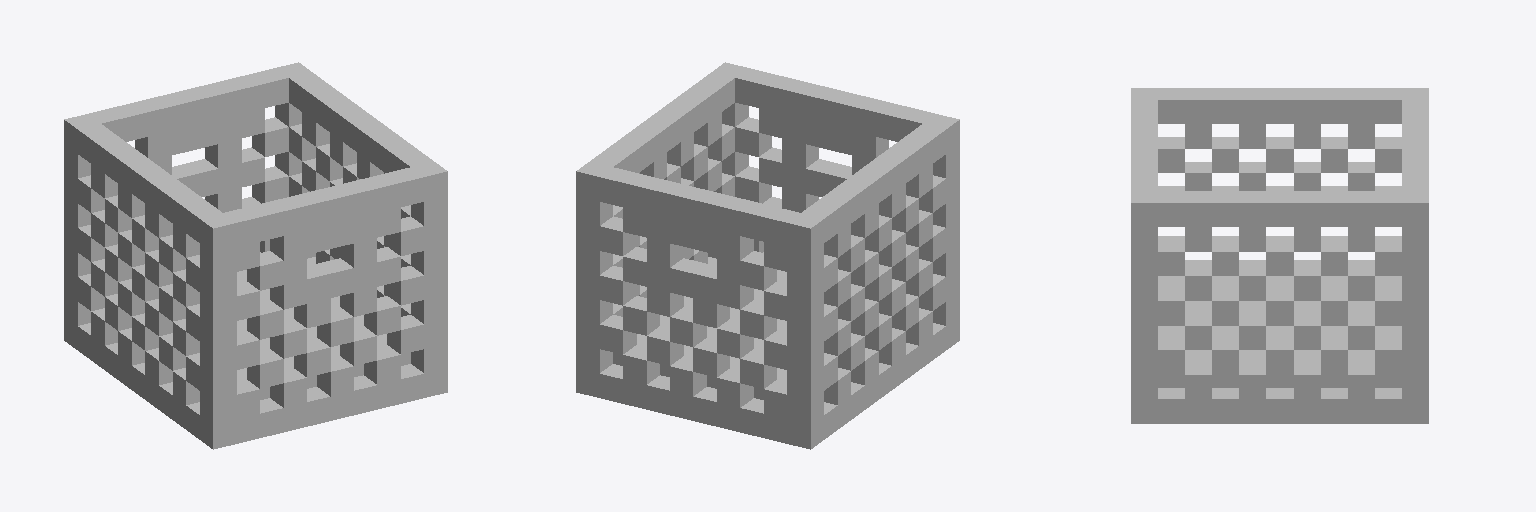
File: Boite ouverte 2.obj
The picture shows the model from 3 angles: view 1: azimuth 30°, elevation 25°; view 2: azimuth 150°, elevation 25°; view 3: azimuth 270°, elevation 25°; orthographic projection.
Parts seen in each view (by area): view 1: Boite ouverte 2; view 2: Boite ouverte 2; view 3: Boite ouverte 2.
Boxes of the visible parts, box(x1,y1,x2,y2) form: Boite ouverte 2: box(64, 62, 447, 449); Boite ouverte 2: box(576, 62, 959, 449); Boite ouverte 2: box(1131, 88, 1428, 423).
Size of the model in its own units: 10 by 9 by 11.